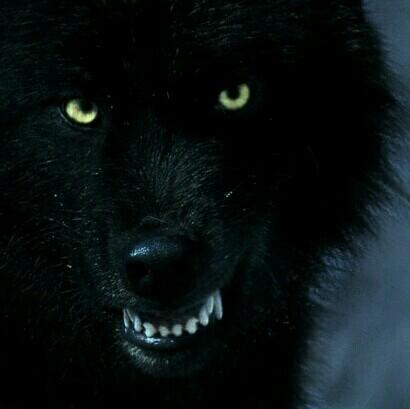Lobo: (6, 7, 349, 388)
